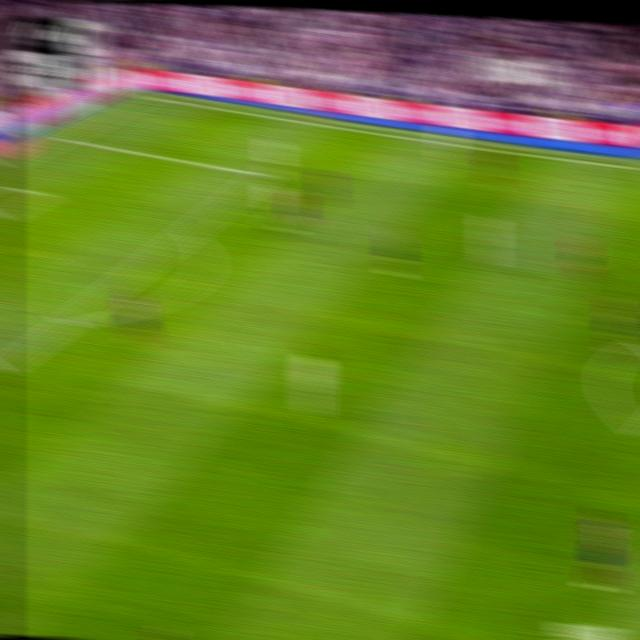bigarea_top_inner: (253, 166, 273, 183)
bigarea_top_outter: (52, 129, 72, 144)
bottom_arc_area_intersection: (57, 309, 80, 332)
corner: (137, 91, 156, 101)
smallarea_top_inner: (34, 186, 52, 201)
top_arc_area_intersection: (177, 221, 198, 241)
